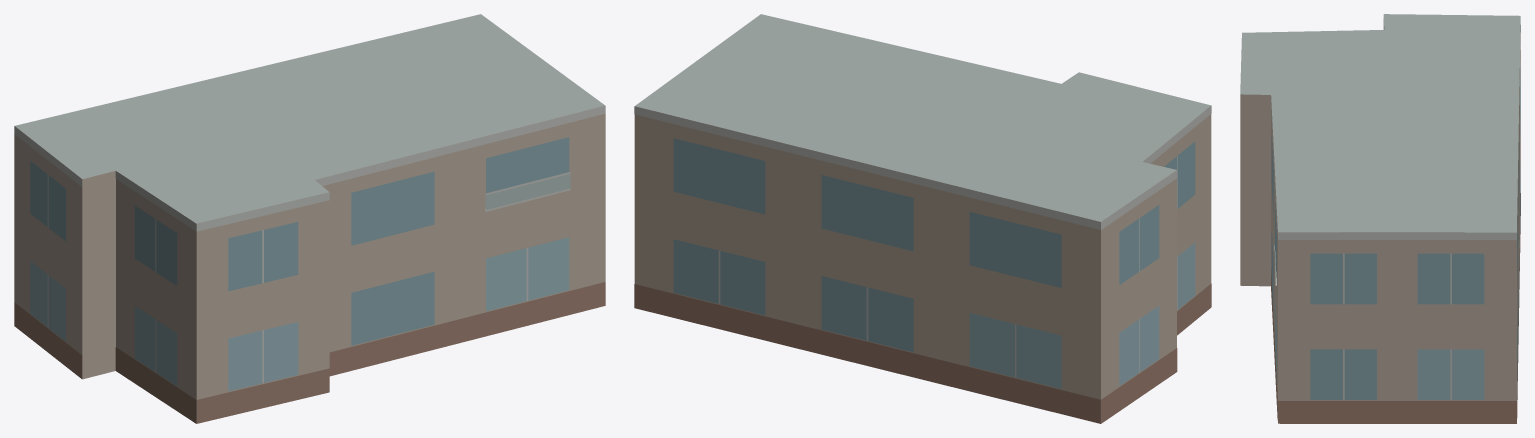
Rendered from survey-upis-32510384.glb.
3 views of the same model, side by side, from view 1: azimuth 30°, elevation 25°; view 2: azimuth 150°, elevation 25°; view 3: azimuth 270°, elevation 25° (orthographic). The views are drawn at different scales.
Parts seen in each view (by area): view 1: survey-upis-32510384.tmp; view 2: survey-upis-32510384.tmp; view 3: survey-upis-32510384.tmp.
Boxes of the visible parts, bbox=[...] form: survey-upis-32510384.tmp: bbox=[14, 14, 605, 423]; survey-upis-32510384.tmp: bbox=[634, 14, 1211, 423]; survey-upis-32510384.tmp: bbox=[1240, 14, 1520, 423].
Size of the model in its own units: 14.94 by 6.1 by 8.12.
